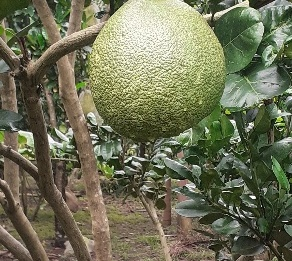Buoi: (82, 1, 225, 147)
